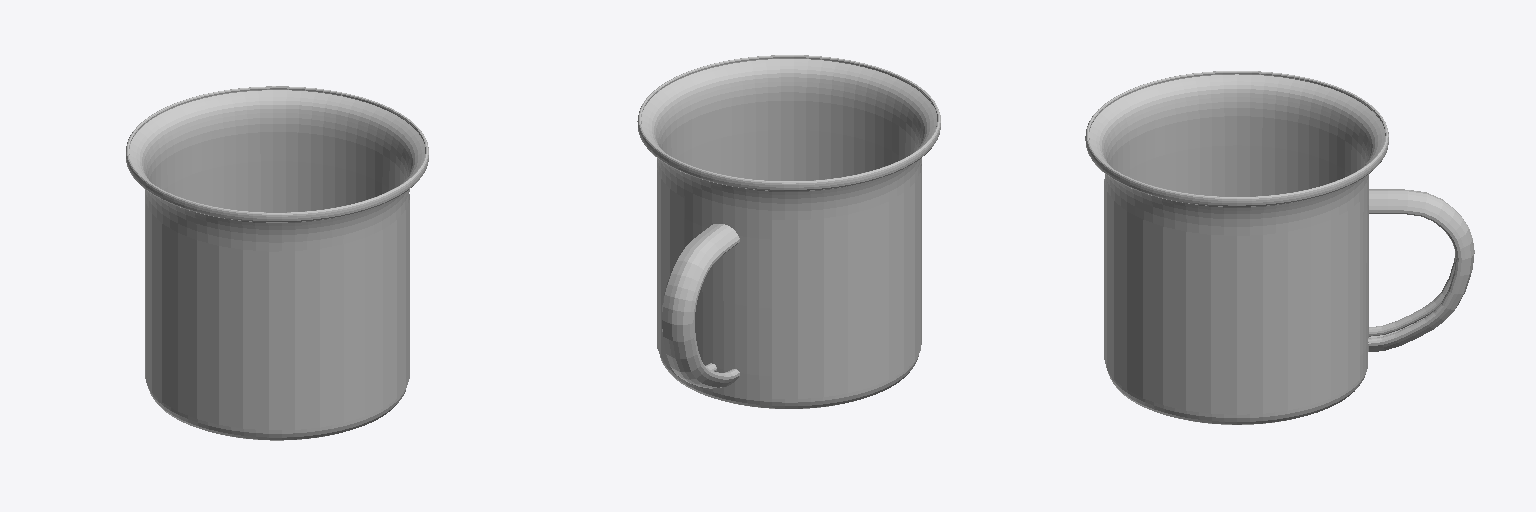
File: enamel.obj
3 renders of one model, left to right at view 1: azimuth 30°, elevation 25°; view 2: azimuth 150°, elevation 25°; view 3: azimuth 270°, elevation 25°, orthographic.
Visible parts, largest first — view 1: EnamelPicture_Outside, EnamelBody_body, EnamelBorder_bordure; view 2: EnamelBody_body, EnamelPicture_Outside, EnamelAnkle_handle, EnamelBorder_bordure; view 3: EnamelPicture_Outside, EnamelBody_body, EnamelAnkle_handle, EnamelBorder_bordure.
Part boxes in pixels (left/top/right/bottom): EnamelPicture_Outside: left=145, top=194, right=409, bottom=429; EnamelBody_body: left=129, top=90, right=424, bottom=440; EnamelBorder_bordure: left=126, top=86, right=428, bottom=222; EnamelBody_body: left=641, top=59, right=936, bottom=408; EnamelPicture_Outside: left=657, top=164, right=921, bottom=398; EnamelAnkle_handle: left=662, top=224, right=739, bottom=388; EnamelBorder_bordure: left=637, top=55, right=940, bottom=190; EnamelPicture_Outside: left=1104, top=179, right=1359, bottom=414; EnamelBody_body: left=1089, top=74, right=1384, bottom=424; EnamelAnkle_handle: left=1368, top=189, right=1474, bottom=351; EnamelBorder_bordure: left=1085, top=71, right=1388, bottom=206.
Size of the model in its own units: 7.37 by 6.53 by 9.45.